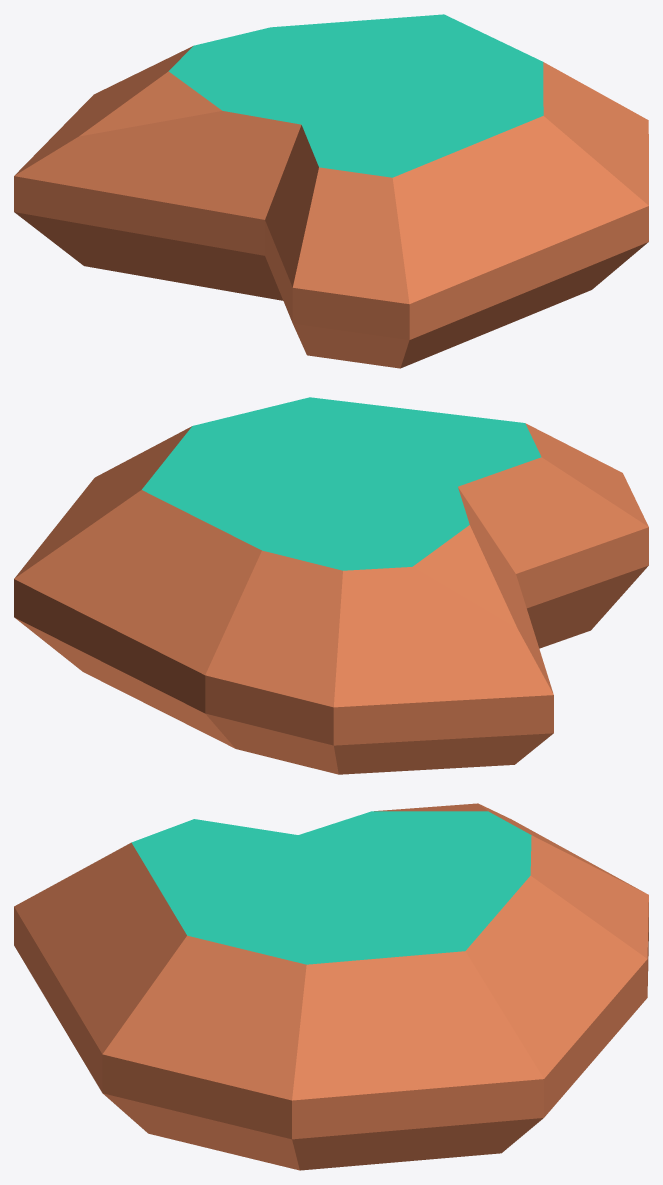
File: rock_largeC.dae
3 views of the same model, one above another, from view 1: azimuth 30°, elevation 25°; view 2: azimuth 150°, elevation 25°; view 3: azimuth 270°, elevation 25° (orthographic). The views are drawn at different scales.
Parts seen in each view (by area): view 1: rock_largeC; view 2: rock_largeC; view 3: rock_largeC.
Part boxes in pixels (x1,y1,x2,y2): rock_largeC: [14, 14, 648, 368]; rock_largeC: [14, 397, 648, 774]; rock_largeC: [14, 803, 648, 1170].
Size of the model in its own units: 1.06 by 0.3211 by 1.02.
